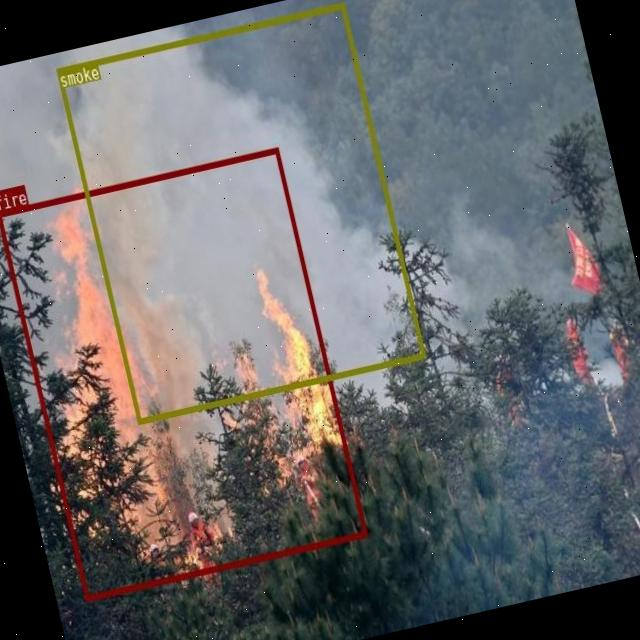fire: (0, 146, 366, 600)
smoke: (56, 1, 426, 424)
